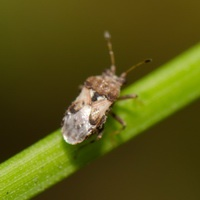insect: (61, 31, 150, 144)
